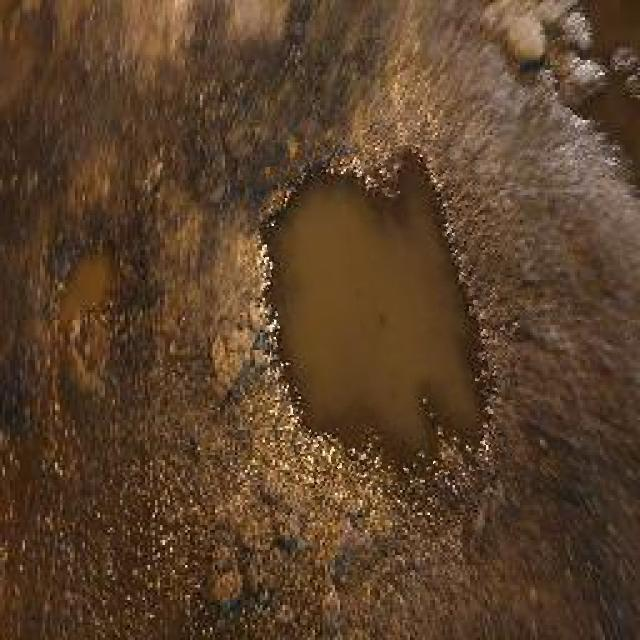puddle: (256, 144, 502, 493)
